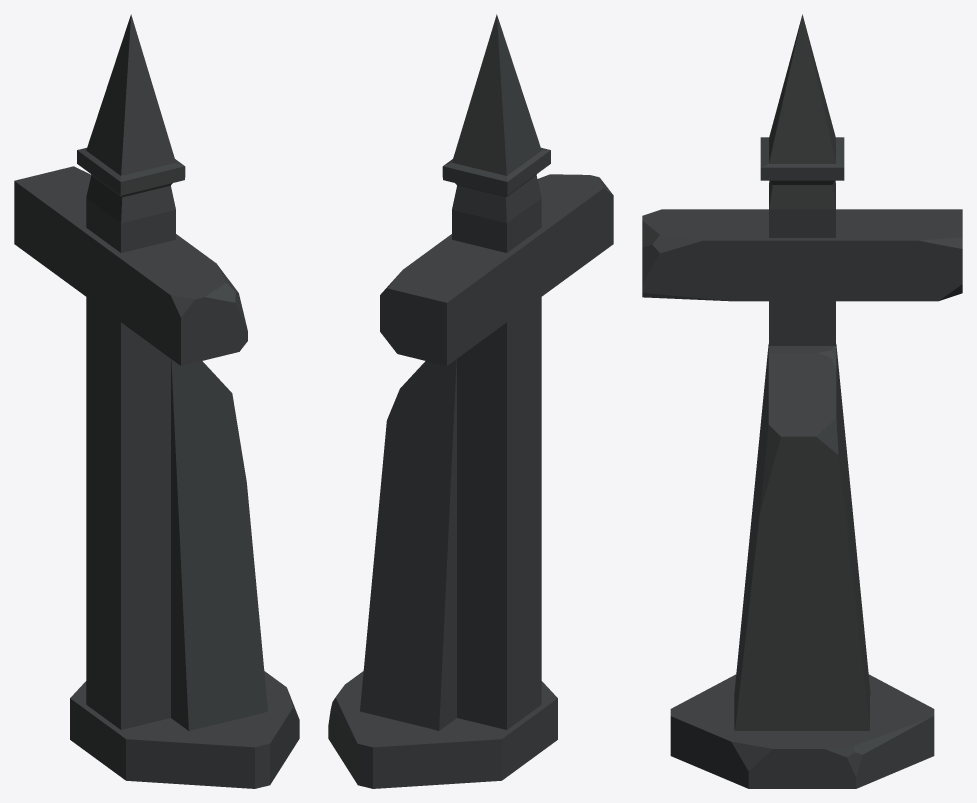
File: gravestone7.fbx
3 renders of one model, left to right at view 1: azimuth 30°, elevation 25°; view 2: azimuth 150°, elevation 25°; view 3: azimuth 270°, elevation 25°, orthographic. The views are drawn at different scales.
Visible parts, largest first — view 1: gravestone7; view 2: gravestone7; view 3: gravestone7.
Boxes of the visible parts, <box> form: gravestone7: <box>14,14,299,788</box>; gravestone7: <box>328,14,613,788</box>; gravestone7: <box>642,14,962,788</box>.
Bounding box in the file's own units: 1.29 × 5.22 × 2.14.
